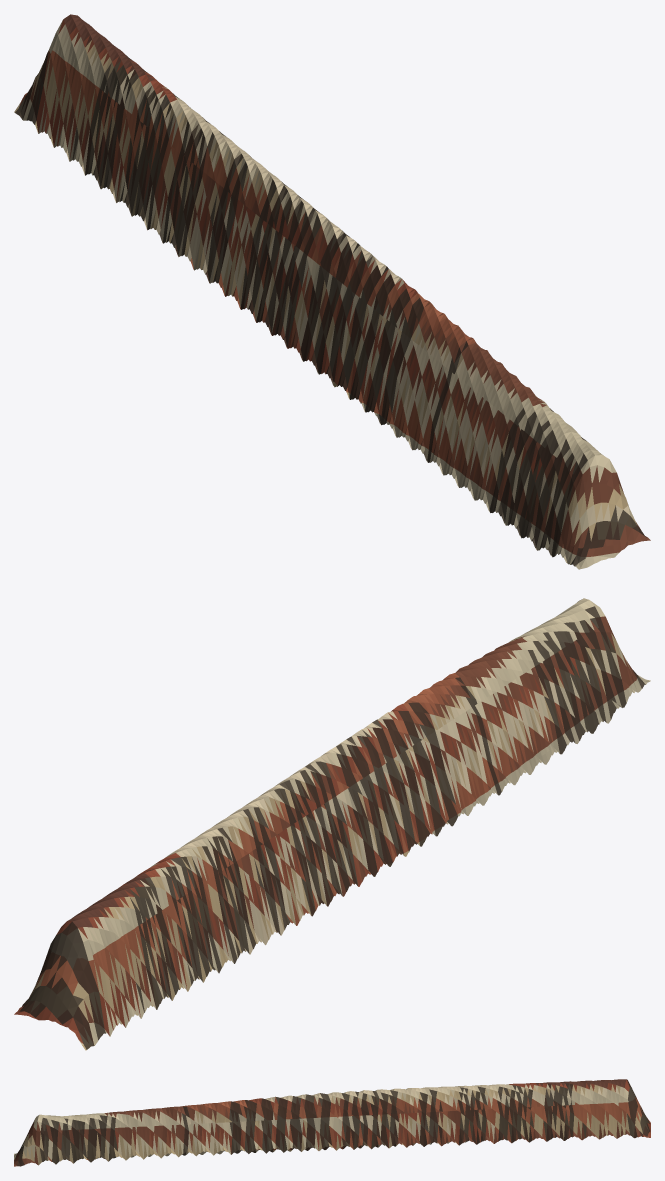
File: dam_slot_fin_west.glb
3 renders of one model, top to bottom at view 1: azimuth 30°, elevation 25°; view 2: azimuth 150°, elevation 25°; view 3: azimuth 270°, elevation 25°, orthographic. The views are drawn at different scales.
Visible parts, largest first — view 1: dam_slot_fin_west; view 2: dam_slot_fin_west; view 3: dam_slot_fin_west.
Boxes of the visible parts, x1,y1,x2,y2 form: dam_slot_fin_west: [14, 14, 650, 569]; dam_slot_fin_west: [14, 598, 650, 1050]; dam_slot_fin_west: [14, 1079, 650, 1166].
Size of the model in its own units: 22 by 47.05 by 300.
